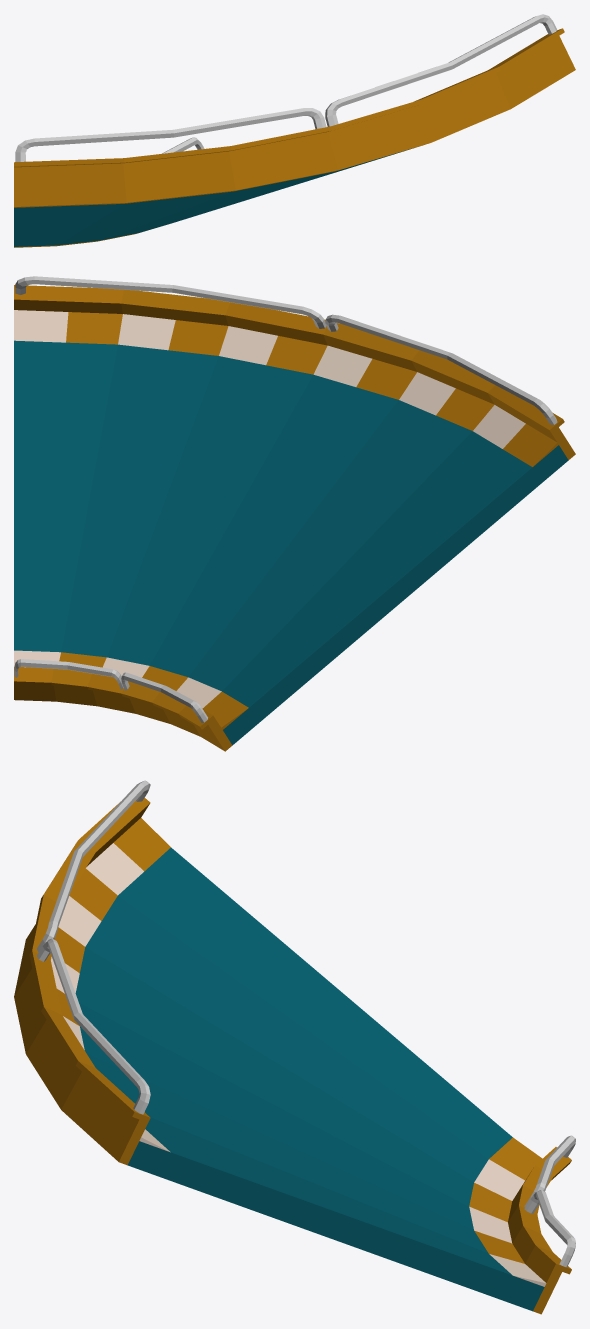
The model's file is bankedRight-60-30_s.FBX.
3 views of the same model, one above another, from view 1: azimuth 30°, elevation 25°; view 2: azimuth 150°, elevation 25°; view 3: azimuth 270°, elevation 25° (orthographic). The views are drawn at different scales.
Parts seen in each view (by area): view 1: wall_l, bankedRight-60-30_s, wall_r; view 2: bankedRight-60-30_s, wall_l, curbs_l, wall_r, curbs_r; view 3: bankedRight-60-30_s, wall_l, curbs_l, wall_r, curbs_r.
Part boxes in pixels (x1,y1,x2,y2): wall_l: (14, 14, 575, 207); bankedRight-60-30_s: (14, 148, 413, 246); wall_r: (14, 137, 204, 247); bankedRight-60-30_s: (14, 340, 568, 745); wall_l: (14, 276, 575, 459); curbs_l: (14, 310, 558, 466); wall_r: (14, 659, 232, 751); curbs_r: (14, 650, 248, 729); bankedRight-60-30_s: (75, 847, 544, 1311); wall_l: (14, 780, 150, 1165); curbs_l: (51, 818, 170, 1152); wall_r: (508, 1135, 575, 1314); curbs_r: (469, 1137, 546, 1286).
Size of what is drawn, in the model's own units: 278 by 126 by 199.
